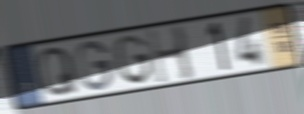1: (206, 20, 232, 73)
4: (234, 13, 265, 70)
G: (112, 32, 155, 86), (74, 39, 115, 93)
H: (144, 23, 198, 87)
Q: (36, 45, 80, 99)
